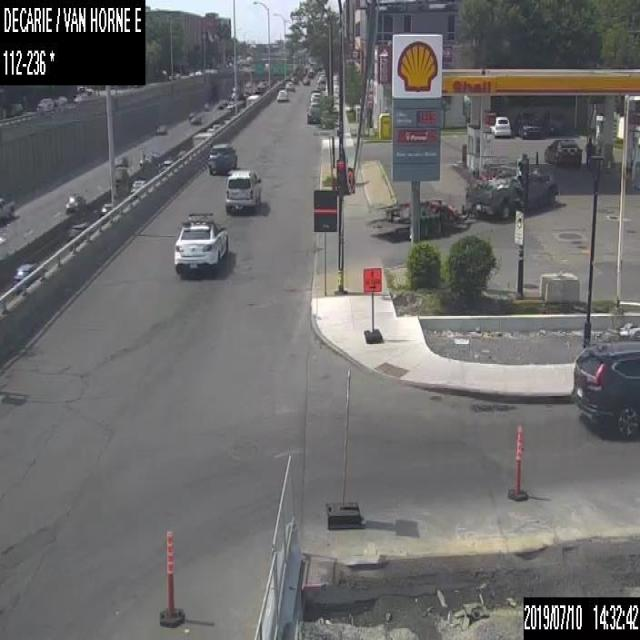construction: (254, 454, 638, 638), (157, 528, 185, 627), (361, 264, 382, 342), (507, 427, 528, 501)
pedestrian: (584, 138, 593, 166)
vehicle: (366, 161, 558, 235), (572, 338, 639, 438), (173, 212, 228, 273), (224, 168, 260, 211), (544, 138, 582, 166), (207, 144, 237, 173), (12, 263, 43, 284), (514, 114, 540, 139), (66, 221, 89, 242), (64, 191, 84, 212), (490, 115, 510, 136), (0, 196, 15, 223), (306, 101, 321, 122), (192, 132, 211, 148), (6, 102, 22, 116), (114, 168, 129, 182), (130, 180, 145, 194), (36, 97, 52, 110), (244, 94, 258, 107), (52, 94, 66, 106), (99, 202, 111, 215), (116, 154, 128, 166), (154, 124, 167, 135), (276, 89, 288, 100), (310, 92, 320, 105), (161, 158, 171, 170), (285, 80, 294, 90), (190, 115, 201, 123), (202, 102, 212, 110), (316, 80, 324, 90), (318, 73, 326, 81), (302, 76, 309, 84), (188, 111, 195, 119), (291, 75, 297, 84), (312, 87, 320, 93), (307, 70, 313, 77), (212, 124, 220, 129), (206, 128, 214, 133), (218, 102, 222, 107)
